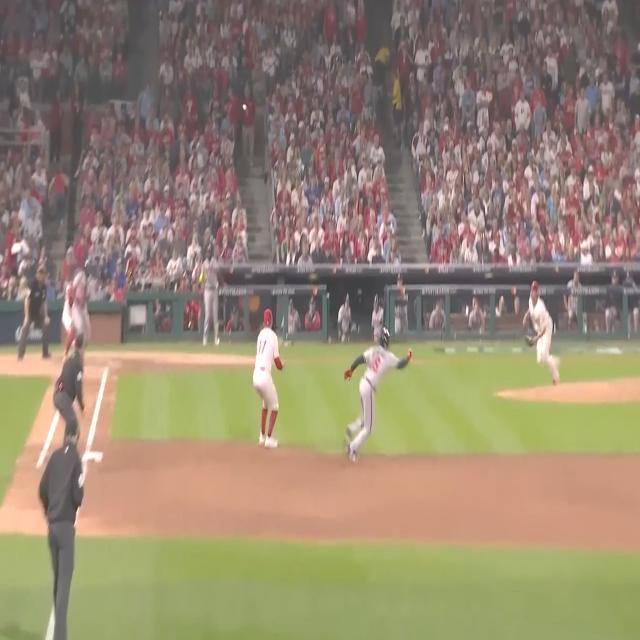ball: (242, 104, 248, 110)
